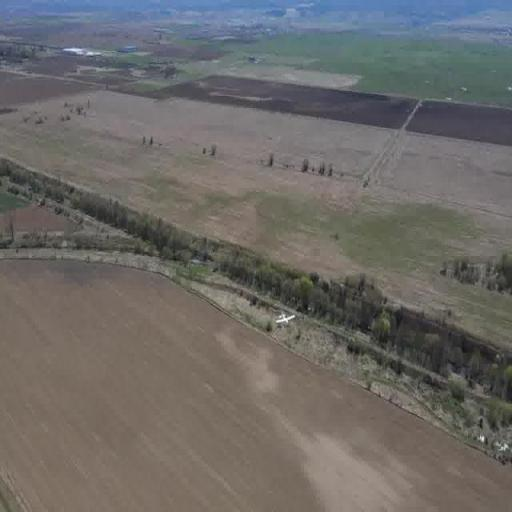uav: (274, 308, 296, 334)
